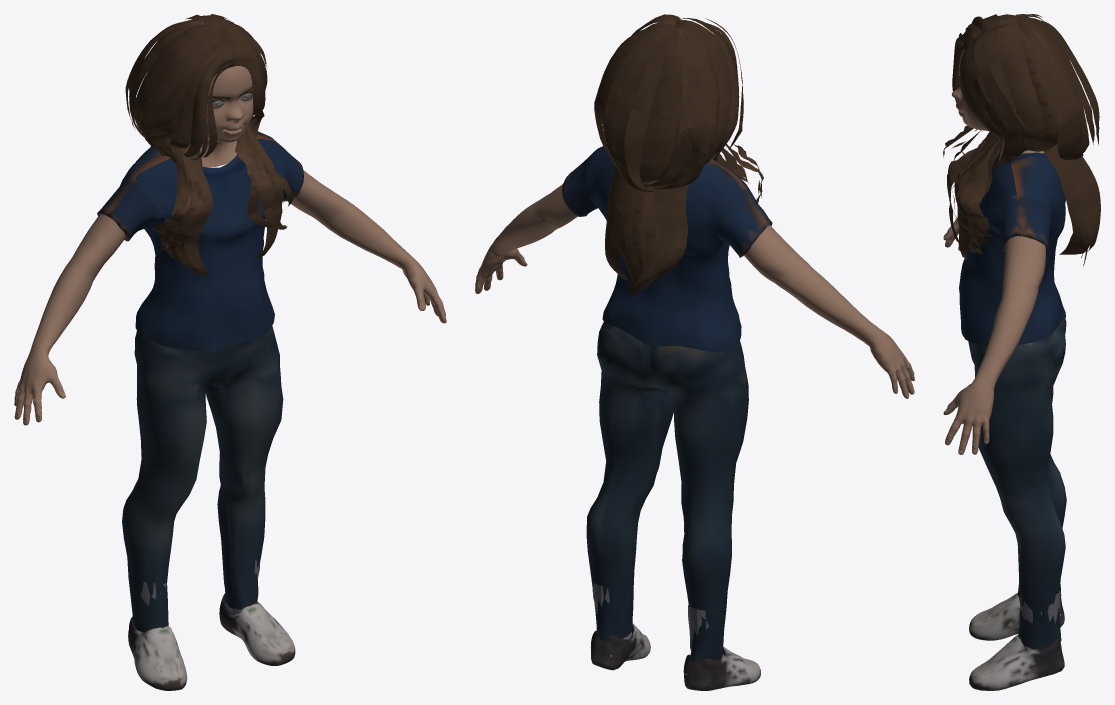
Rendered from 0302-People-cast-cooked-mh-08.glb.
The picture shows the model from 3 angles, left to right: view 1: azimuth 30°, elevation 25°; view 2: azimuth 150°, elevation 25°; view 3: azimuth 270°, elevation 25°; orthographic projection. The views are drawn at different scales.
Visible parts, largest first — view 1: People: cast (cooked)/mh_08; view 2: People: cast (cooked)/mh_08; view 3: People: cast (cooked)/mh_08.
Part boxes in pixels (<box>): People: cast (cooked)/mh_08: <box>14,14,446,690</box>; People: cast (cooked)/mh_08: <box>475,14,914,690</box>; People: cast (cooked)/mh_08: <box>943,14,1100,690</box>.
Bounding box in the file's own units: 0.6963 × 1 × 0.2246.
